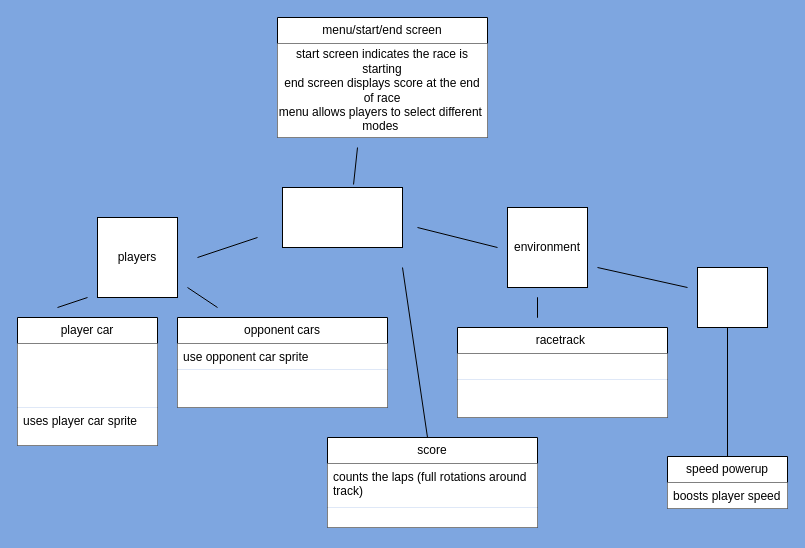
Some shapes in this 805 by 548 pixel diagram are drawn without their labels. Here are the shapes that lost their labels. From the top down, the centre of each, then its label:
At point 342,217: "racing game".
At point 732,297: "powerups".
At point 87,375: "manuver with wasd around the track".
At point 562,366: "unable to move outside of track".
At point 282,388: "able to manuver around the track".
At point 562,398: "marks the point where the lap starts/ends".
At point 432,517: "first to reach X laps wins".
